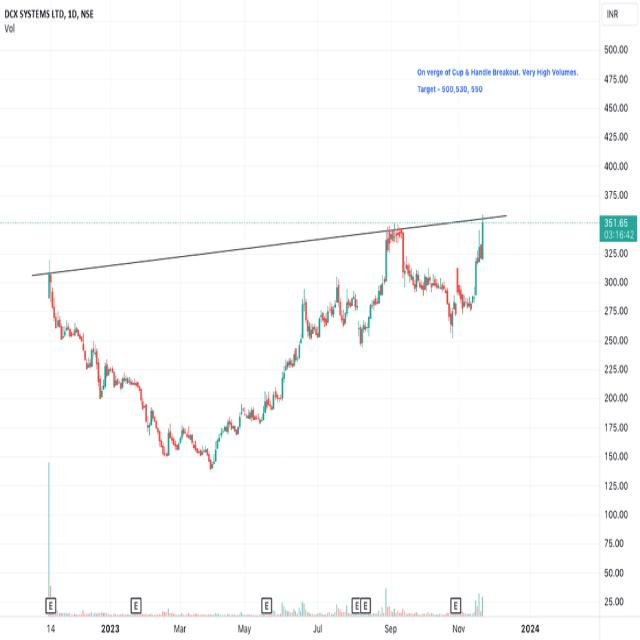Cup-and-handle: (38, 217, 498, 479)
